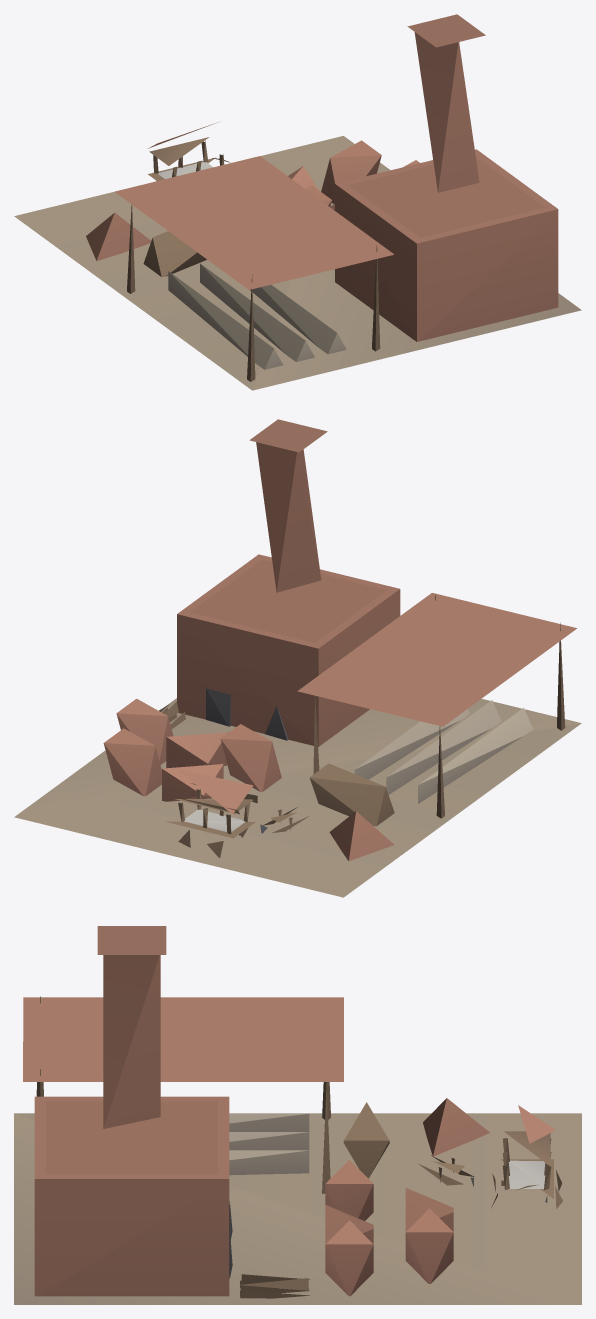
The model's file is brickworks.lite.glb.
3 renders of one model, top to bottom at view 1: azimuth 30°, elevation 25°; view 2: azimuth 150°, elevation 25°; view 3: azimuth 270°, elevation 25°, orthographic. The views are drawn at different scales.
Visible parts, largest first — view 1: brickworks; view 2: brickworks; view 3: brickworks.
Part boxes in pixels (box(x1,y1,x2,y2)): brickworks: box(14, 14, 581, 390); brickworks: box(14, 419, 581, 897); brickworks: box(14, 926, 581, 1304).
Size of the model in its own units: 3.96 by 3.06 by 4.96.
